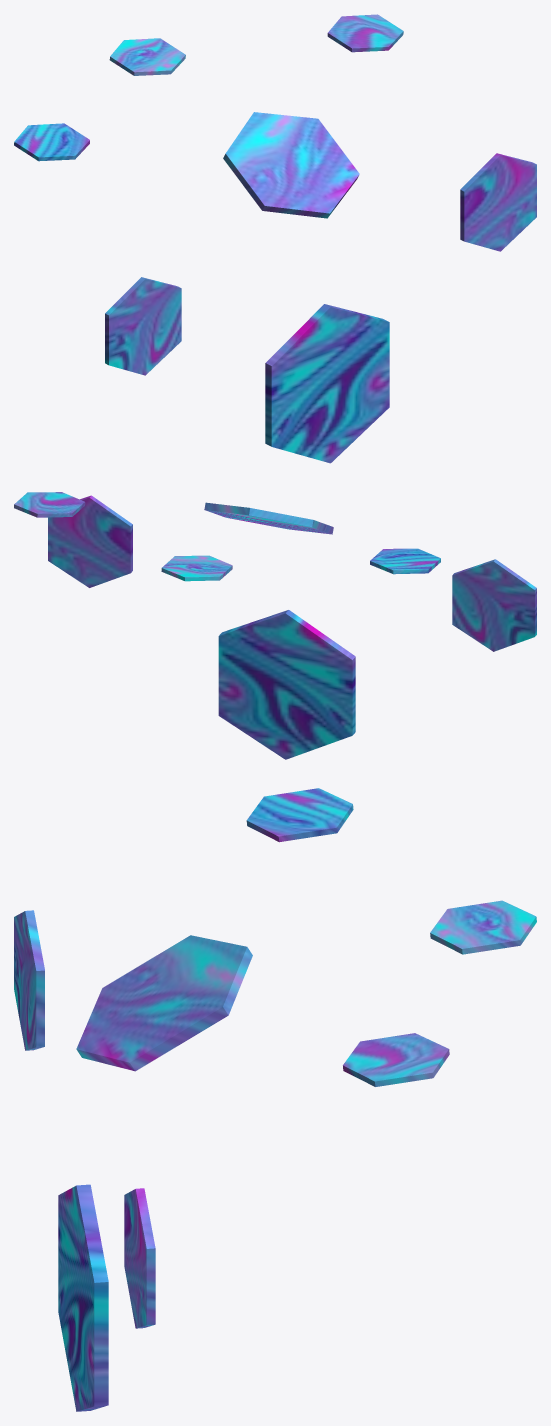
The model's file is humming_stage_animated_1.glb.
The picture shows the model from 3 angles, top to bottom: view 1: azimuth 30°, elevation 25°; view 2: azimuth 150°, elevation 25°; view 3: azimuth 270°, elevation 25°; orthographic projection. The views are drawn at different scales.
Visible parts, largest first — view 1: Plane.001; view 2: Plane.001; view 3: Plane.001.
Part boxes in pixels (x1,y1,x2,y2): Plane.001: [14, 14, 536, 463]; Plane.001: [14, 492, 536, 759]; Plane.001: [14, 788, 536, 1411].
Bounding box in the file's own units: 4.36 × 2.8 × 2.87.
Materials: 1 (1 with a texture image).
